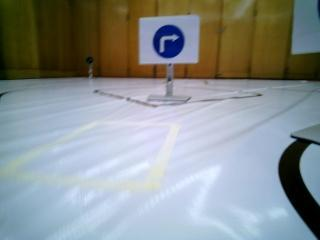right: (141, 17, 194, 62)
